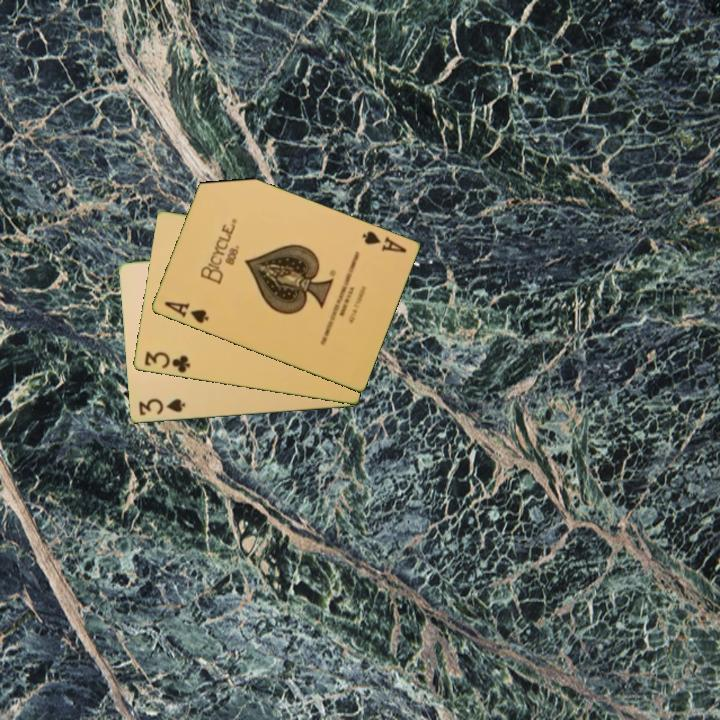3c: (140, 348, 193, 376)
3s: (135, 395, 188, 419)
As: (160, 298, 211, 327), (358, 227, 409, 256)
